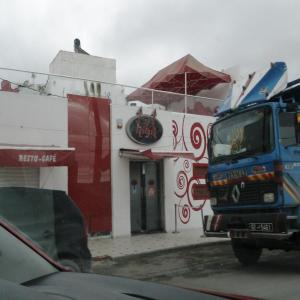Vehicle-registration-plate: (251, 225, 273, 234)
